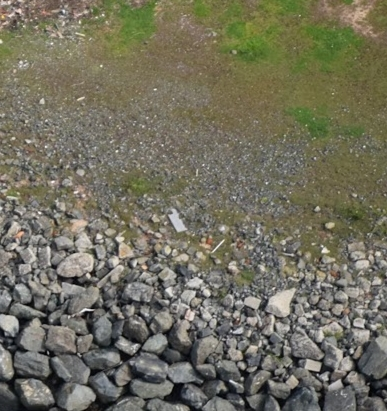cuboid: (159, 204, 197, 239)
